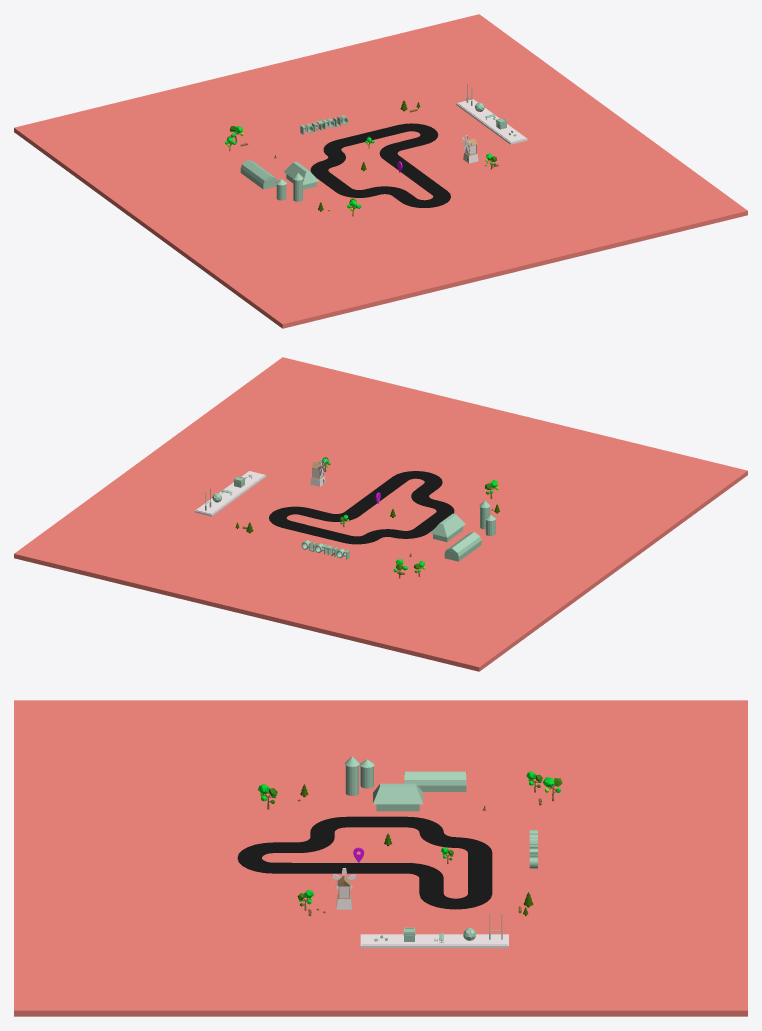
The model's file is map.glb.
The picture shows the model from 3 angles, top to bottom: view 1: azimuth 30°, elevation 25°; view 2: azimuth 150°, elevation 25°; view 3: azimuth 270°, elevation 25°; orthographic projection. The views are drawn at different scales.
Visible parts, largest first — view 1: Plane, Plane_TRACK_0, Cube.002, Cube; view 2: Plane, Plane_TRACK_0, Cube.002, Cube, Cube.001; view 3: Plane, Plane_TRACK_0, Cube.002, Cube.001, Cube, propeller.
Part boxes in pixels (bbox=[...]): Plane: bbox=[14, 14, 747, 328]; Plane_TRACK_0: bbox=[310, 123, 450, 207]; Cube.002: bbox=[456, 99, 527, 144]; Cube: bbox=[240, 160, 277, 189]; Plane: bbox=[14, 357, 747, 671]; Plane_TRACK_0: bbox=[269, 471, 454, 544]; Cube.002: bbox=[195, 471, 266, 516]; Cube: bbox=[444, 532, 481, 561]; Cube.001: bbox=[430, 513, 465, 541]; Plane: bbox=[14, 700, 747, 1016]; Plane_TRACK_0: bbox=[237, 816, 492, 909]; Cube.002: bbox=[360, 934, 508, 948]; Cube.001: bbox=[373, 783, 423, 811]; Cube: bbox=[404, 771, 466, 791]; propeller: bbox=[332, 868, 356, 909].
Bounding box in the file's own units: 544 × 35.27 × 544.
